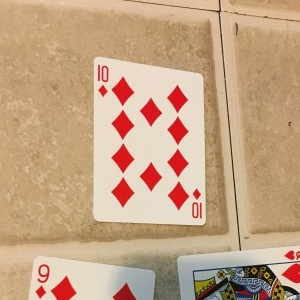card: (92, 58, 208, 226)
